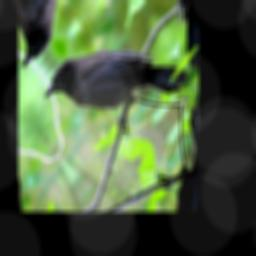Crow: (39, 0, 191, 184)
